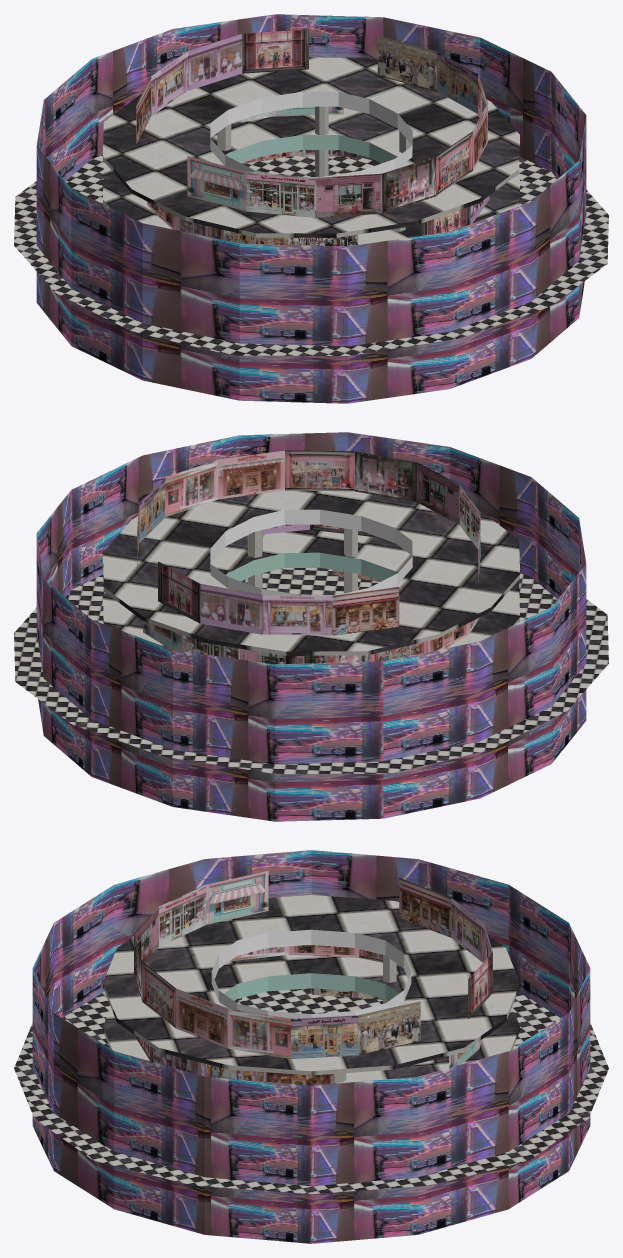
File: mall_FINAL.glb
3 renders of one model, top to bottom at view 1: azimuth 30°, elevation 25°; view 2: azimuth 150°, elevation 25°; view 3: azimuth 270°, elevation 25°, orthographic.
Visible parts, largest first — view 1: Cylinder, Plane.004, Plane.003, Plane, Plane.001; view 2: Cylinder, Plane.004, Plane.003, Plane, Plane.001; view 3: Cylinder, Plane.004, Plane.003, Plane, Plane.001.
Boxes of the visible parts, box(x1,y1,x2,y2) form: Cylinder: box(36, 14, 586, 403); Plane.004: box(103, 57, 519, 237); Plane.003: box(136, 29, 489, 246); Plane: box(14, 155, 608, 355); Plane.001: box(103, 108, 519, 244); Cylinder: box(36, 432, 586, 821); Plane.004: box(103, 490, 519, 655); Plane.003: box(137, 450, 480, 664); Plane: box(14, 567, 608, 773); Plane.001: box(103, 529, 519, 648); Cylinder: box(32, 850, 590, 1243); Plane.004: box(103, 895, 519, 1082); Plane.003: box(134, 870, 492, 1085); Plane: box(14, 988, 608, 1194); Plane.001: box(103, 954, 519, 1083).
Bounding box in the file's own units: 70.59 × 24.07 × 70.59.
Materials: 18 (17 with a texture image).
